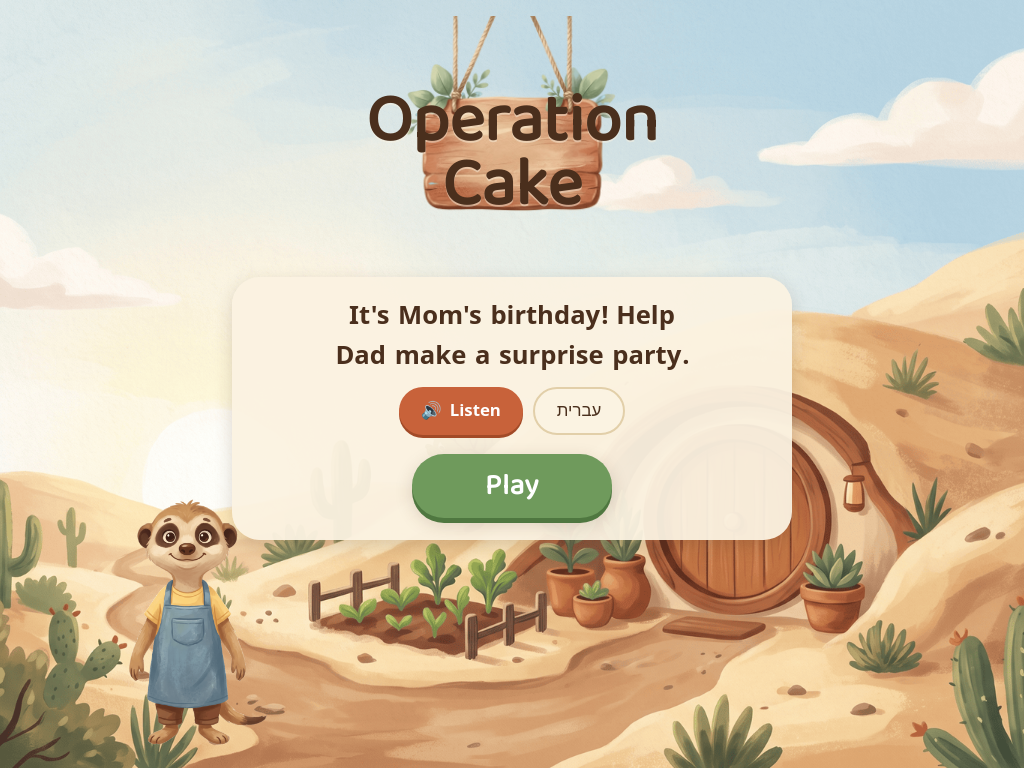
Test: Stage 1 › shows two answers at the easy level
Click the button "Play" at (512, 486), box [412,454,612,518]
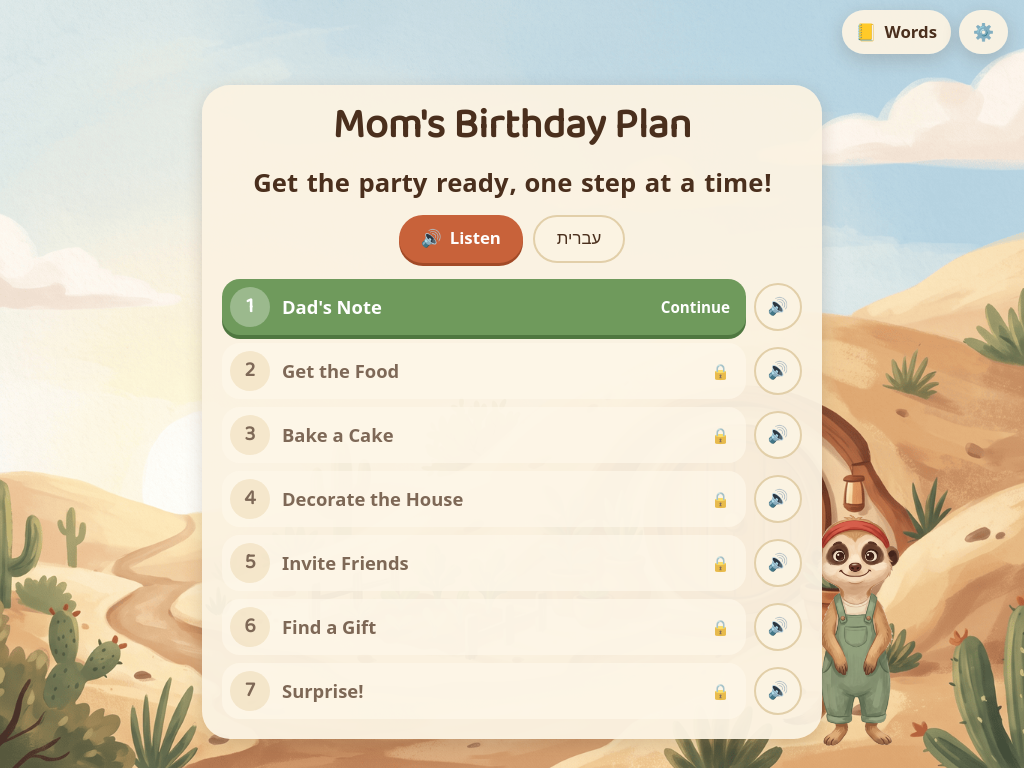
Click the button with class "stage-item__main" showing "1 Dad's Note Continue" at (250, 307), box [222,279,746,335]
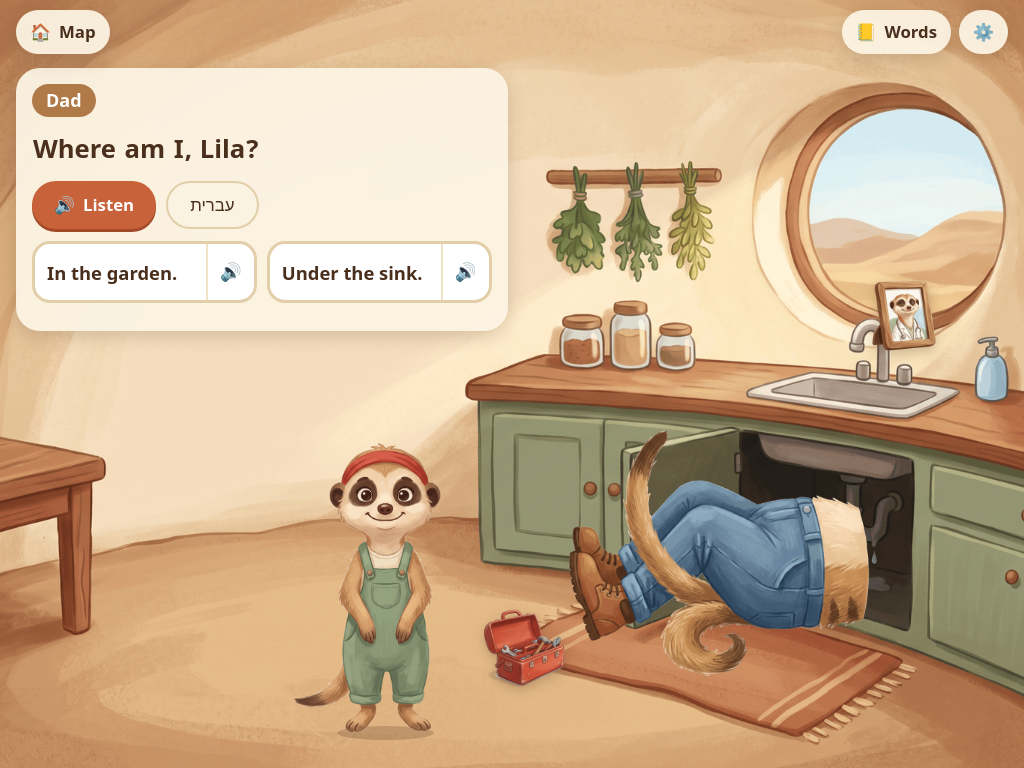
Result: the number of elements with class "choice" is 2 at [32,241,257,303]; [267,241,492,303]
